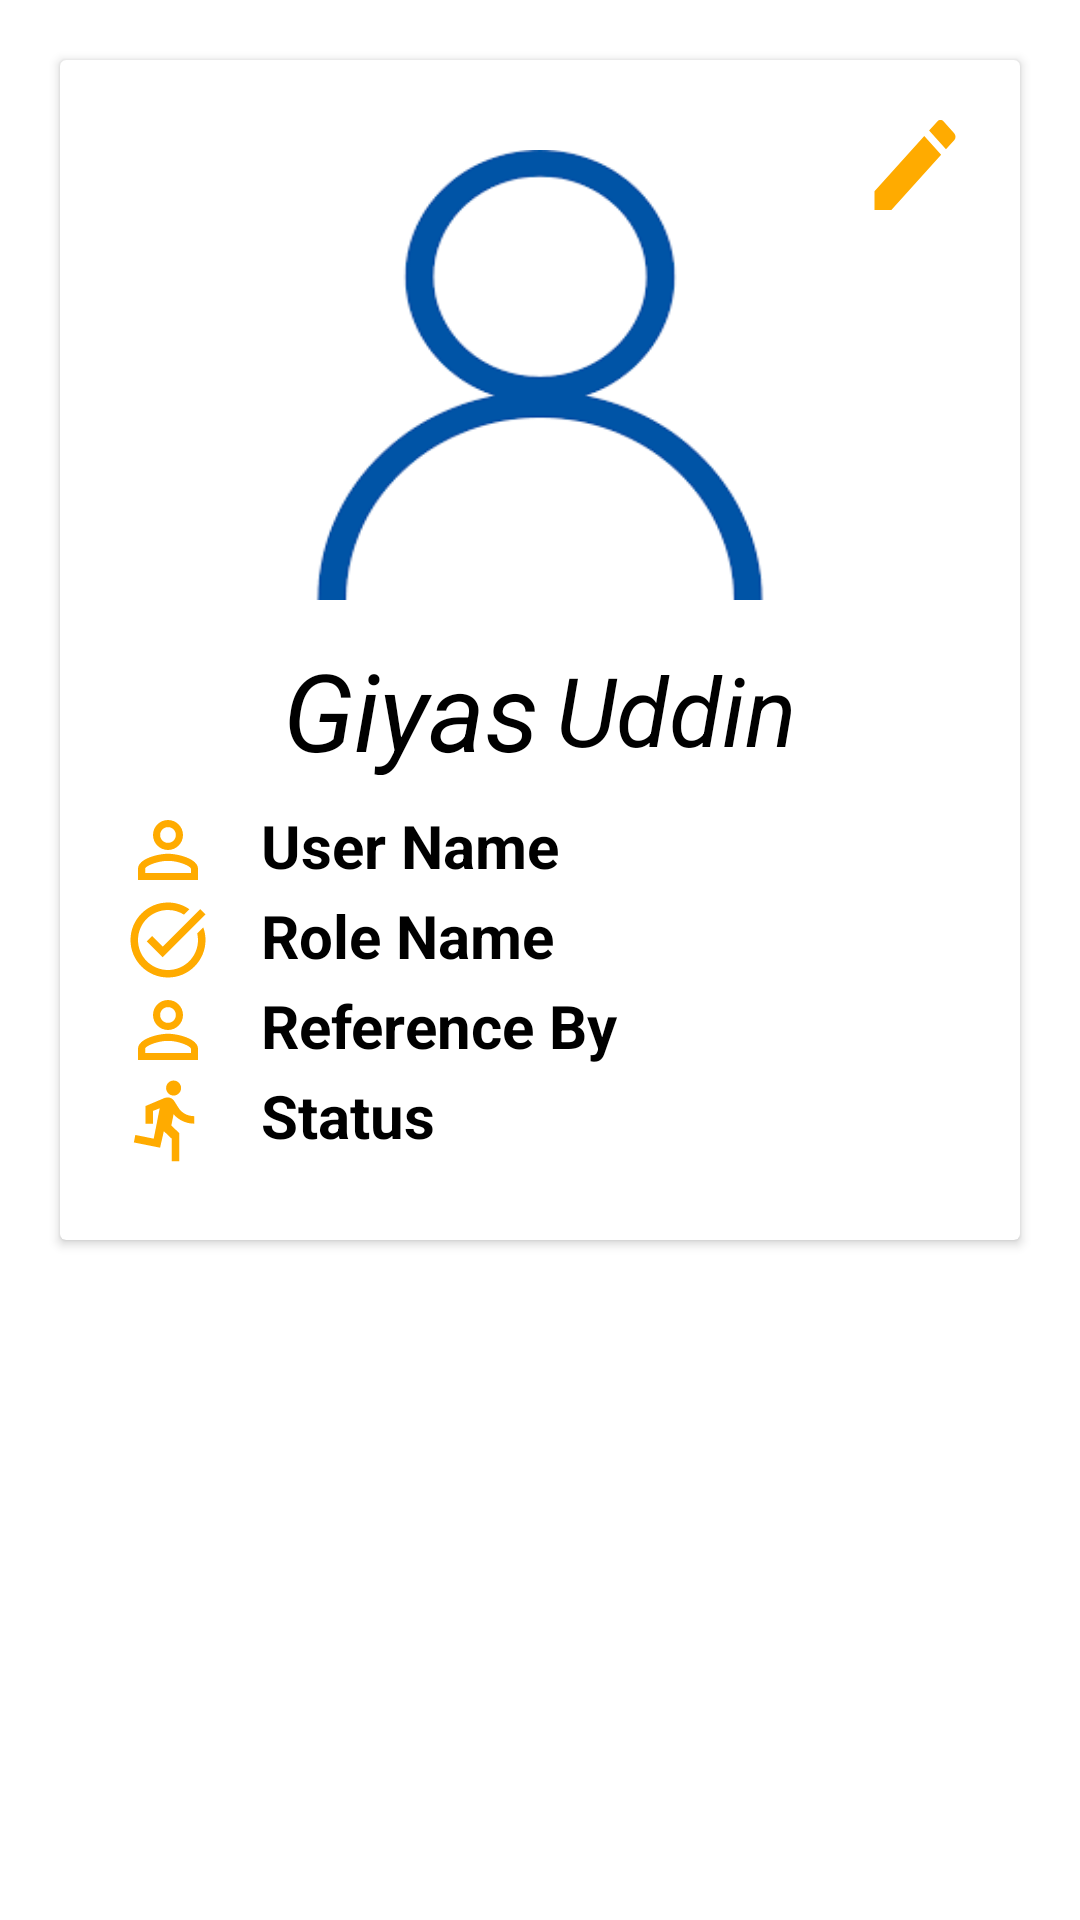

Icon bounding boxes for this 1080px x 1920px phone screenshot, format (x1, y1, x2, y2):
edit: (874, 120, 956, 210)
person: (138, 820, 198, 880), (138, 1000, 198, 1060)
run: (134, 1080, 195, 1162)
task: (130, 902, 206, 978)
